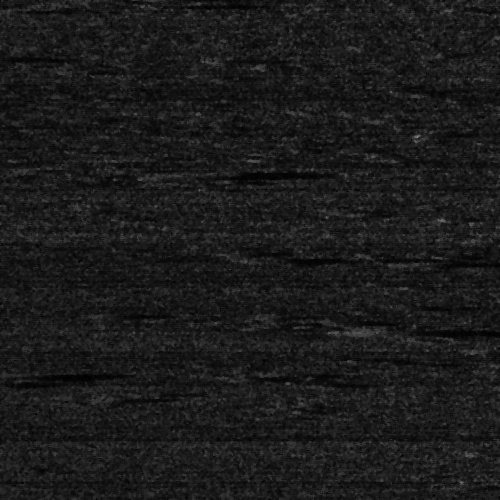object: (324, 324, 417, 335), (129, 167, 222, 176), (377, 258, 450, 265), (0, 371, 22, 376), (241, 256, 272, 259)
shadow: (371, 324, 500, 335), (176, 167, 297, 176), (414, 258, 500, 265), (2, 371, 107, 376), (257, 256, 322, 259)
